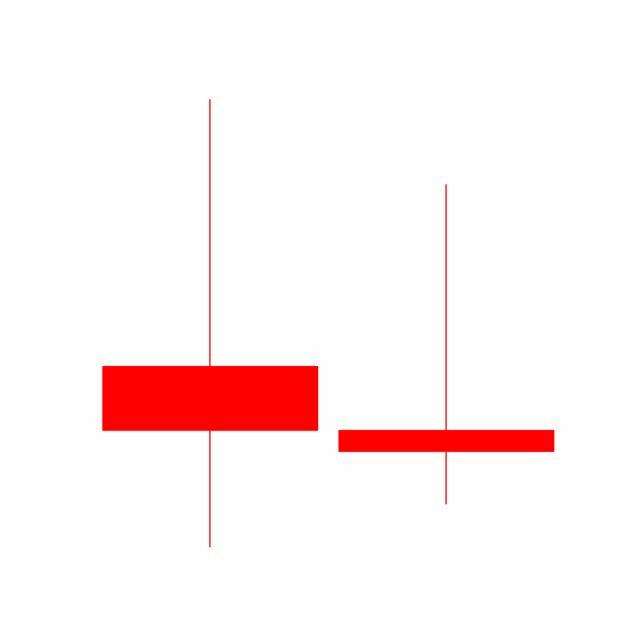Spinning Top: (328, 182, 566, 509)
